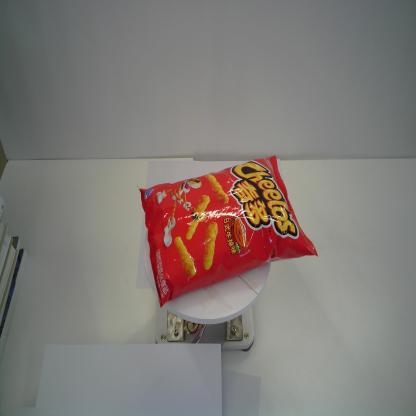Puffed Food: (137, 155, 318, 308)
